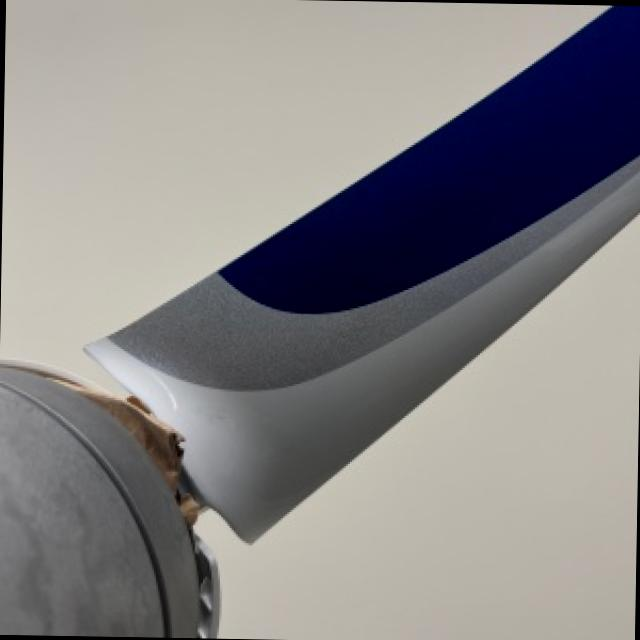healthy: (89, 5, 640, 536), (2, 0, 609, 393), (201, 216, 640, 640)
